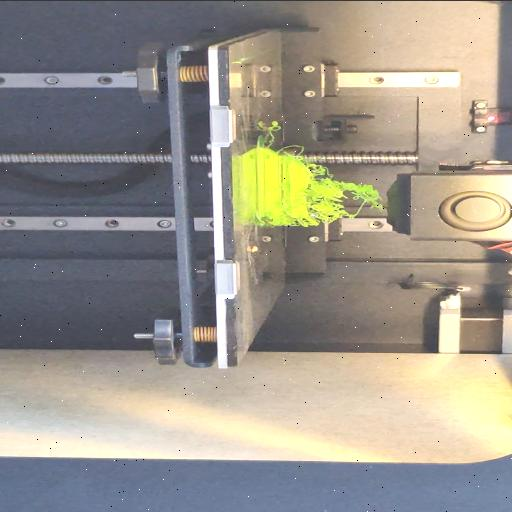spaghetti: (302, 162, 384, 224), (264, 119, 282, 145), (261, 216, 299, 227), (277, 144, 305, 153)
